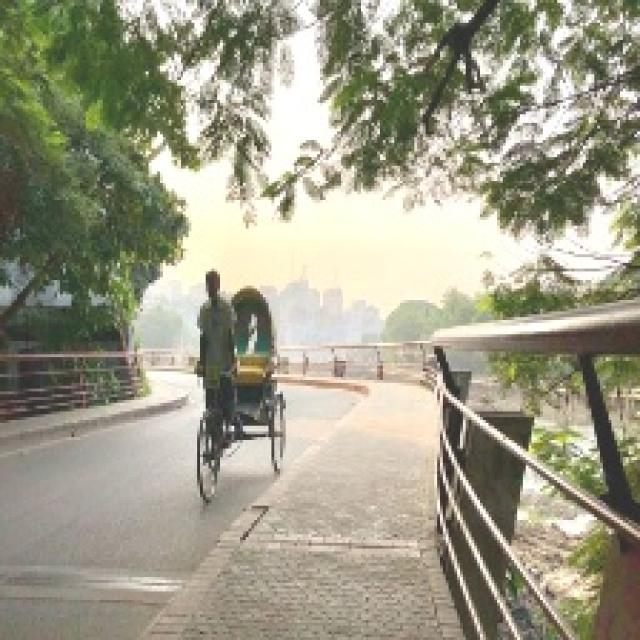rickshaw: (190, 285, 284, 510)
